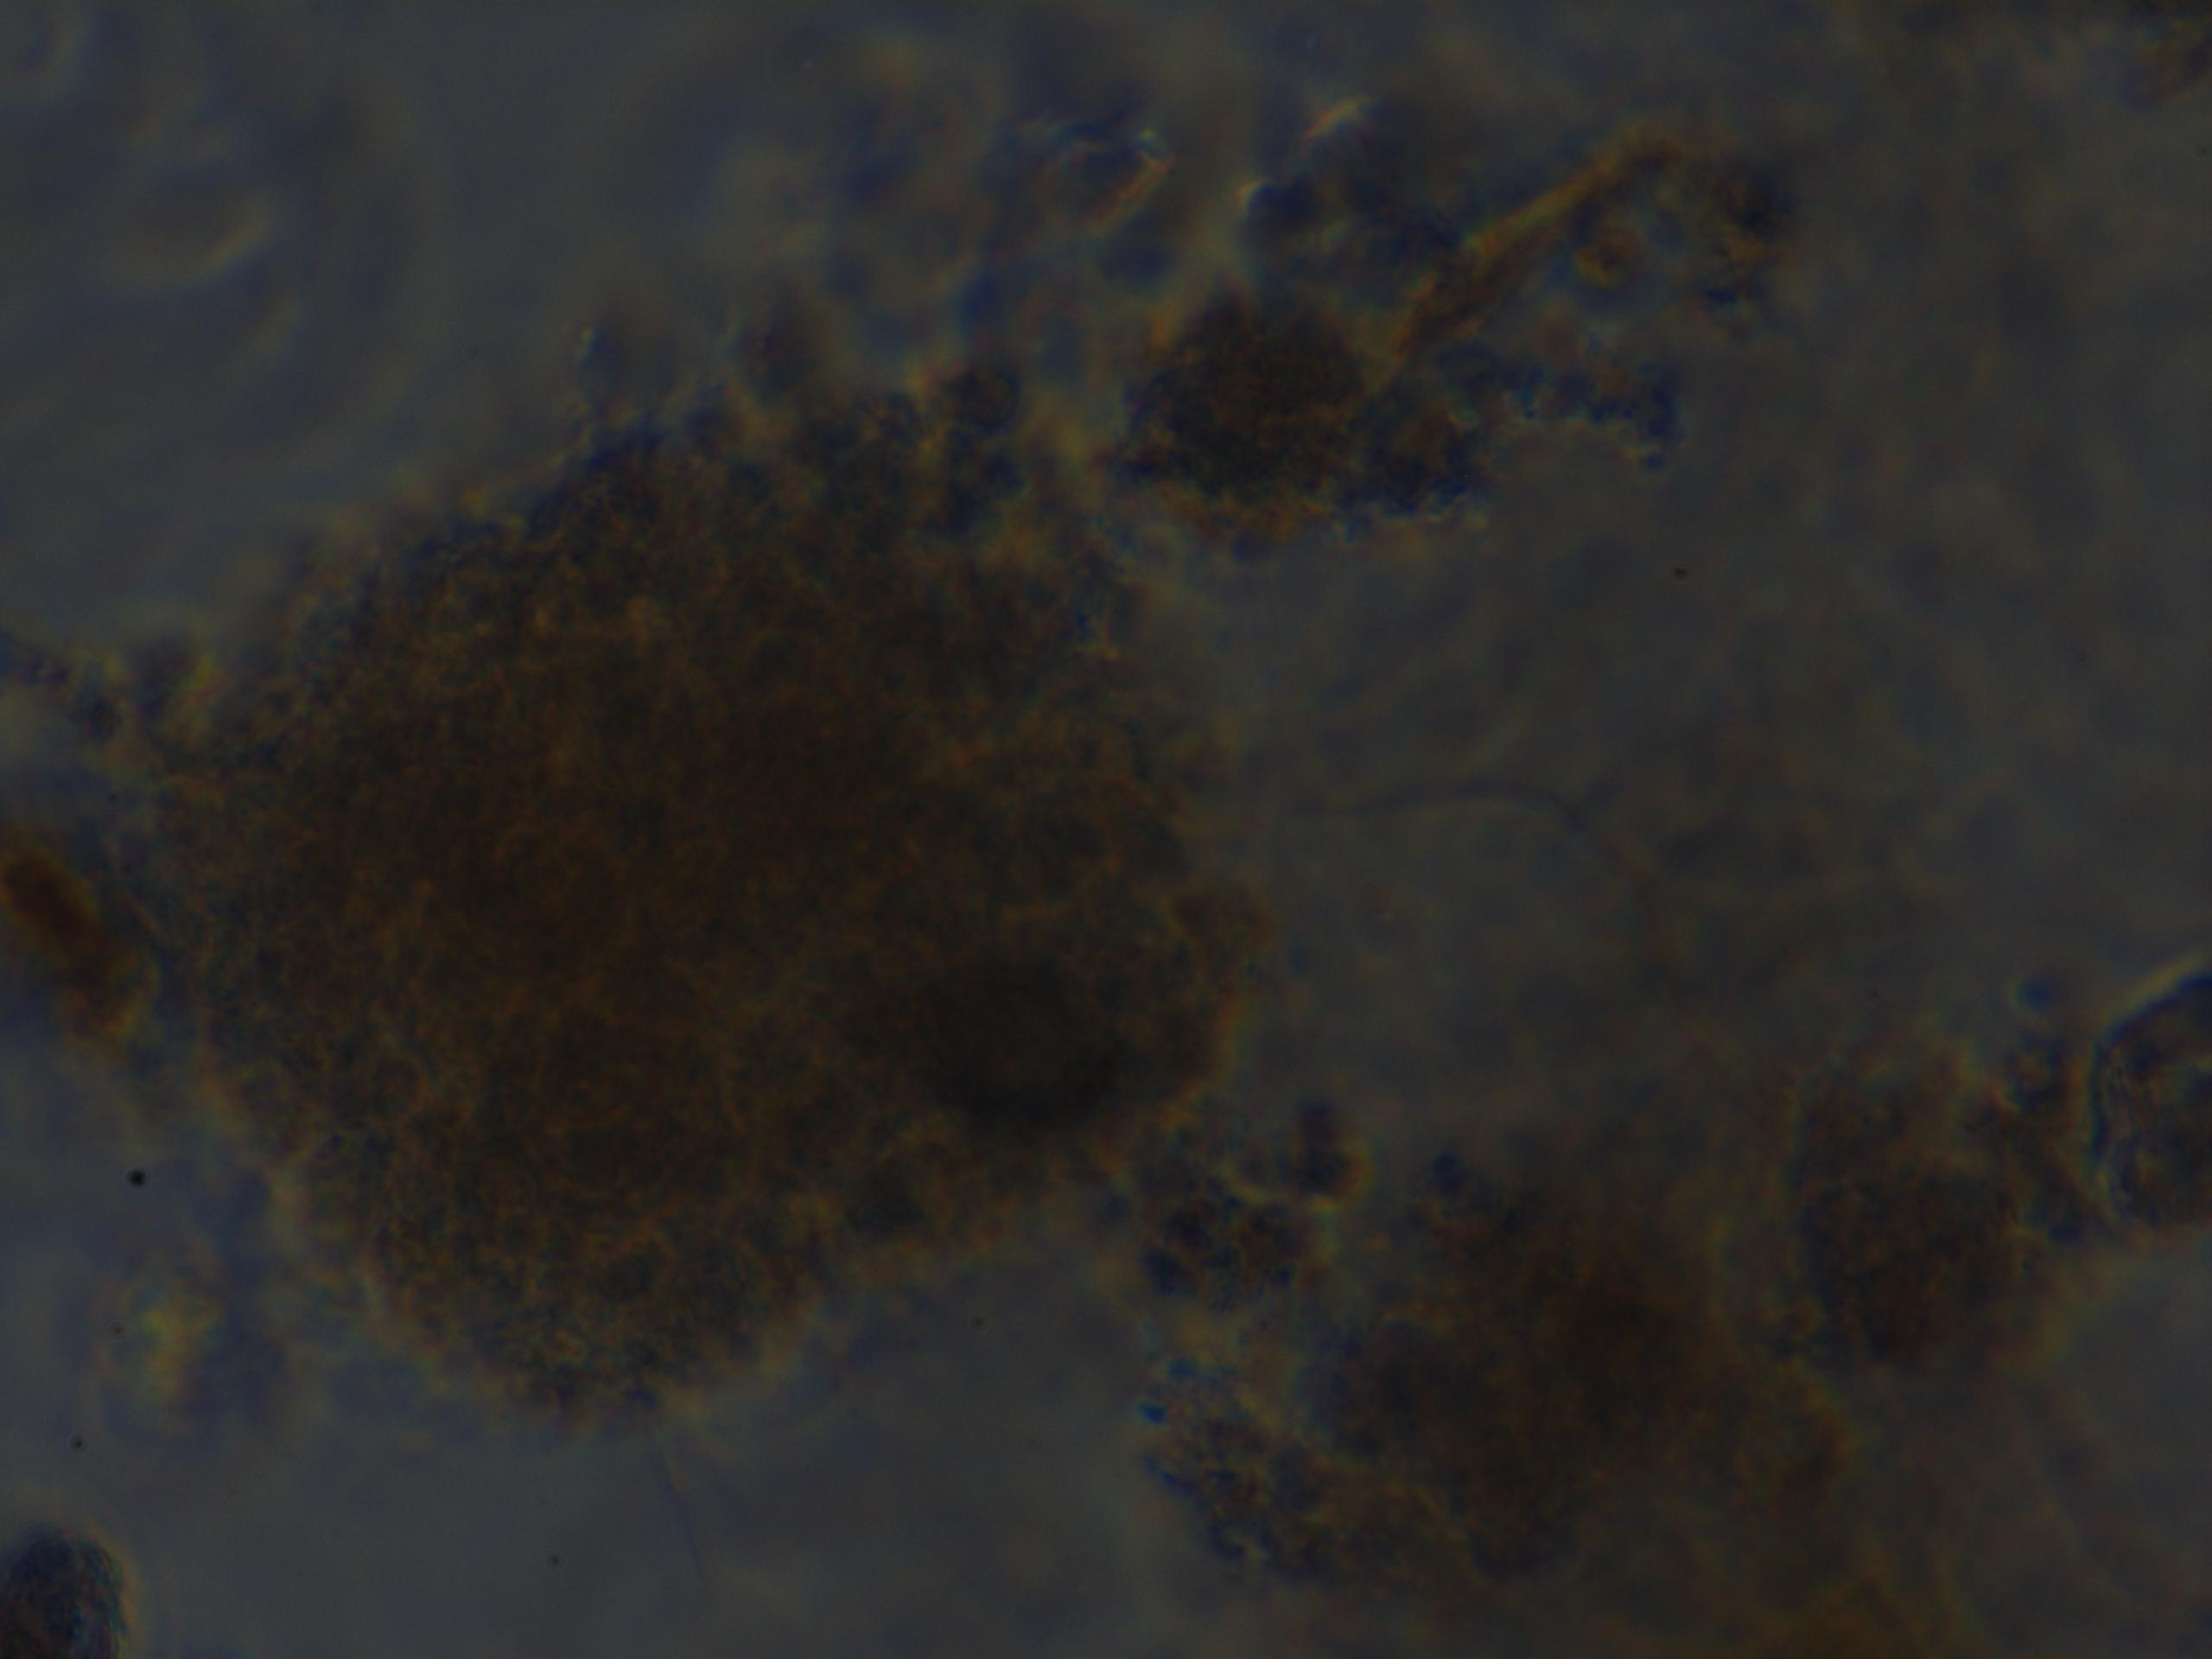spherical_floc: (106, 362, 1273, 1436)
